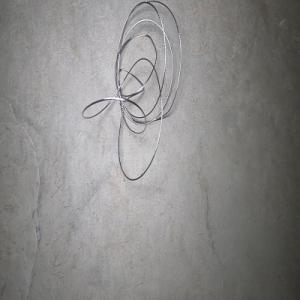Wire: (81, 0, 181, 180)
